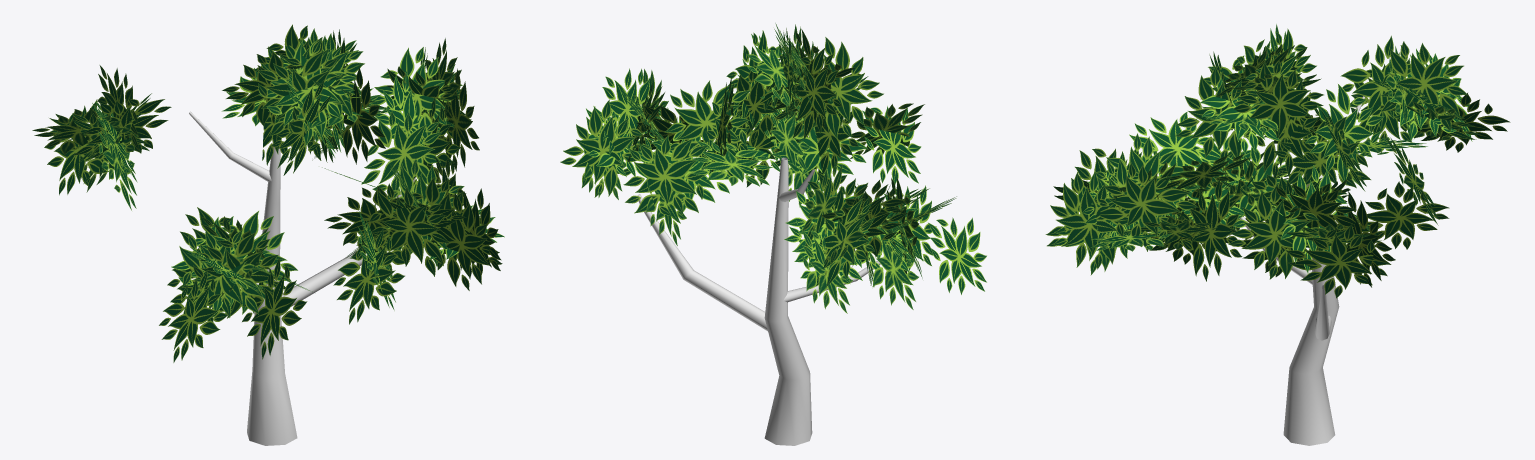
File: Tree2_LOD2.fbx
3 views of the same model, side by side, from view 1: azimuth 30°, elevation 25°; view 2: azimuth 150°, elevation 25°; view 3: azimuth 270°, elevation 25° (orthographic). The views are drawn at different scales.
Visible parts, largest first — view 1: Tree2_LOD2; view 2: Tree2_LOD2; view 3: Tree2_LOD2.
Part boxes in pixels (bbox=[...]): Tree2_LOD2: bbox=[32, 24, 504, 445]; Tree2_LOD2: bbox=[560, 23, 986, 445]; Tree2_LOD2: bbox=[1045, 24, 1510, 445].
Bounding box in the file's own units: 948 × 1004 × 1063.
